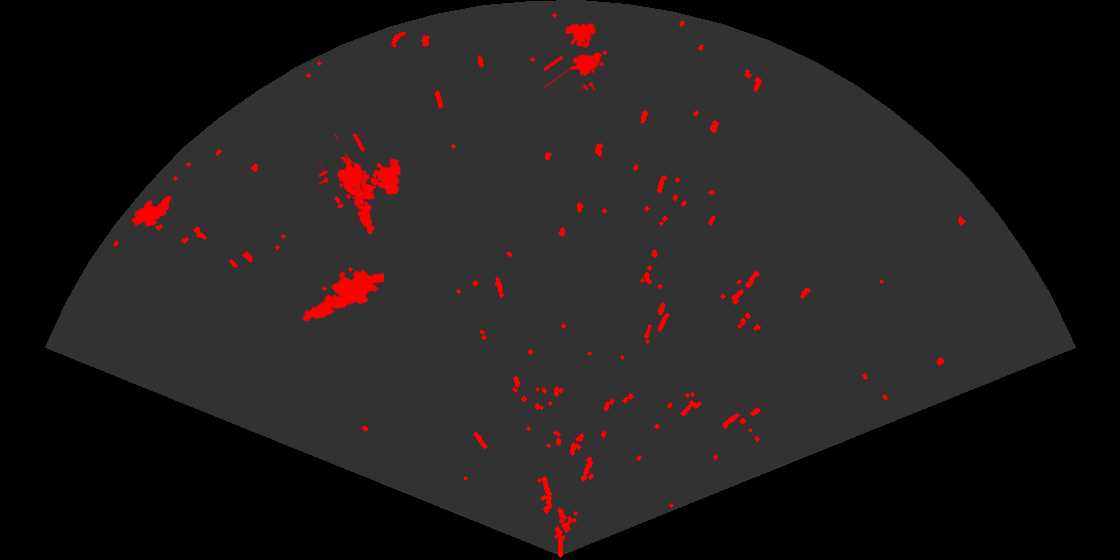AUV: (130, 194, 173, 228)
cage: (319, 134, 403, 207), (544, 21, 609, 90)
frogman: (300, 268, 384, 323), (339, 157, 378, 236)
